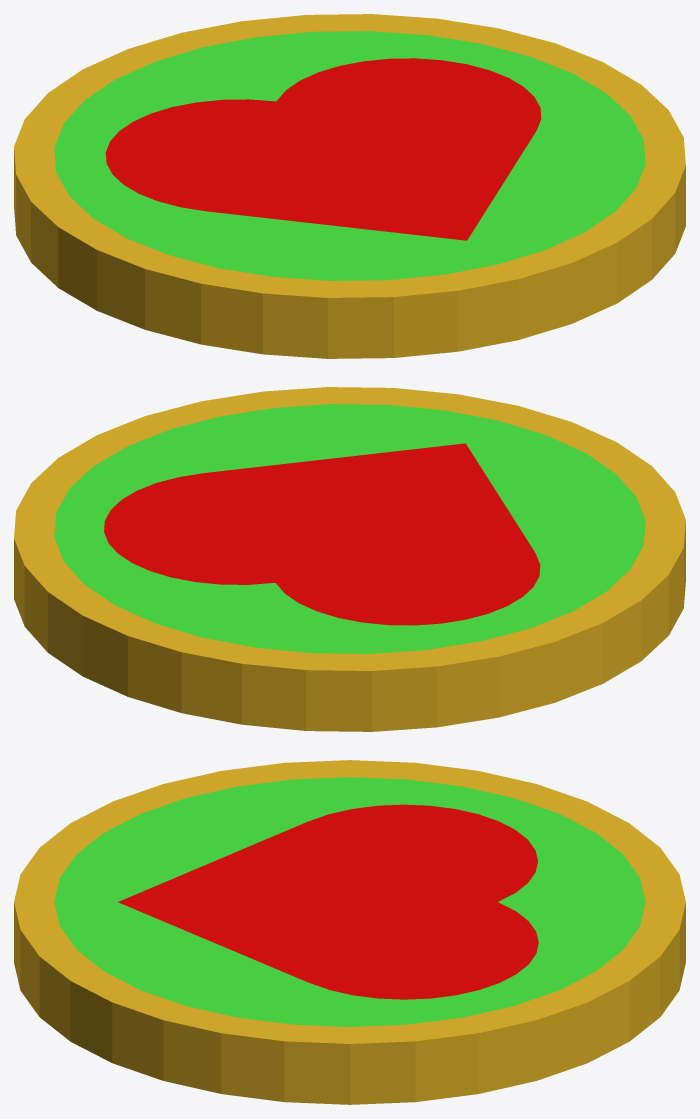
The model's file is Heart.fbx.
The picture shows the model from 3 angles, top to bottom: view 1: azimuth 30°, elevation 25°; view 2: azimuth 150°, elevation 25°; view 3: azimuth 270°, elevation 25°; orthographic projection.
Visible parts, largest first — view 1: Plane; view 2: Plane; view 3: Plane.
Part boxes in pixels (box(x1,y1,x2,y2)): Plane: box(14, 14, 685, 358); Plane: box(14, 387, 685, 731); Plane: box(14, 760, 685, 1104).
Size of the model in its own units: 500 by 50.15 by 500.
